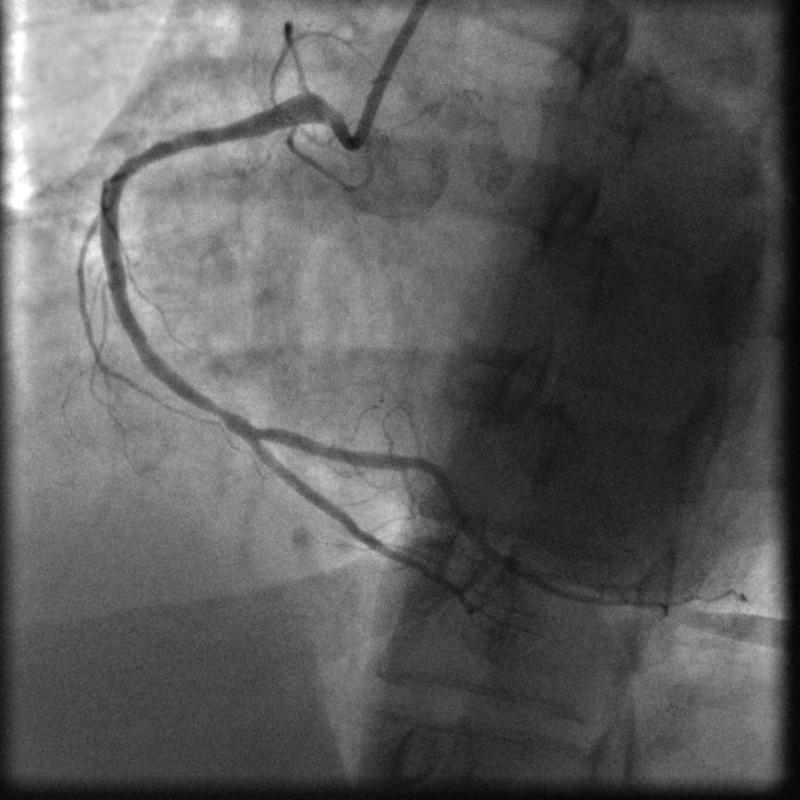Stenosis: (206, 389, 234, 428)
